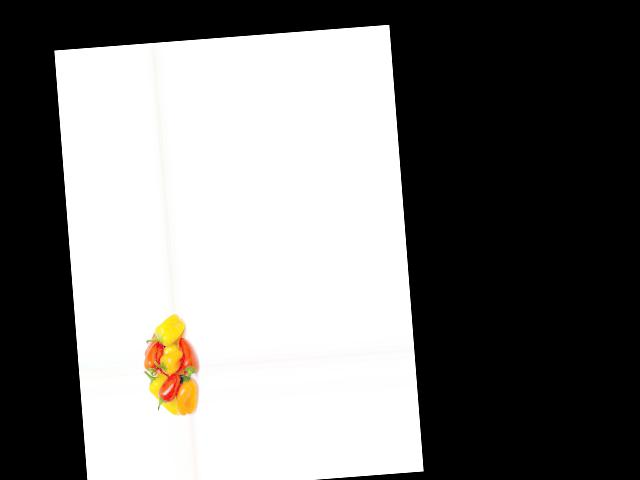bell_pepper: (145, 372, 179, 416)
